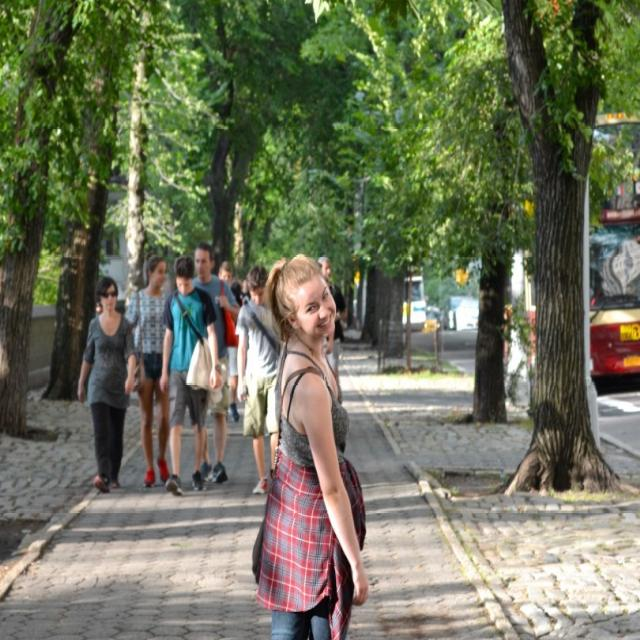body: (246, 245, 372, 639), (156, 249, 223, 497), (76, 270, 140, 496), (190, 240, 242, 485), (123, 249, 173, 490), (233, 264, 281, 496), (317, 254, 349, 407), (216, 259, 241, 424), (229, 270, 251, 308)
